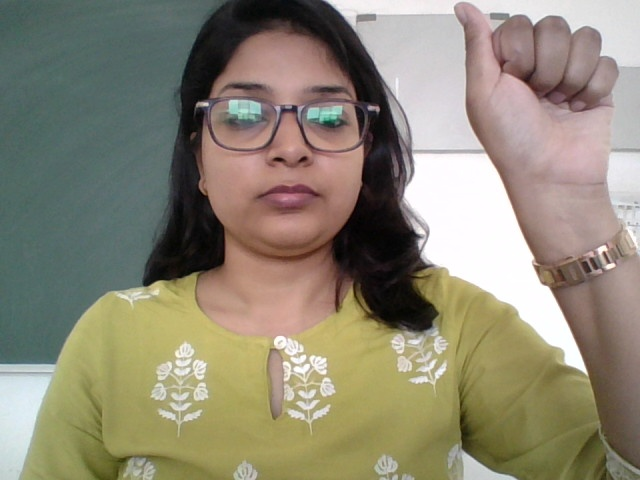A: (442, 1, 638, 202)
